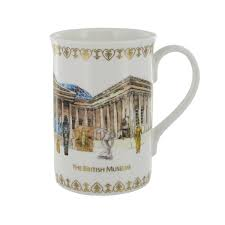mug: (41, 20, 204, 198)
